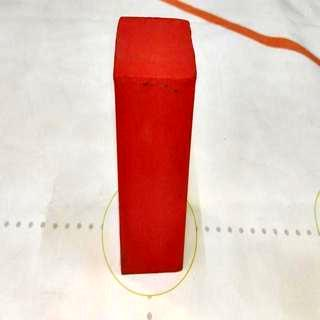redbox: (112, 14, 198, 276)
